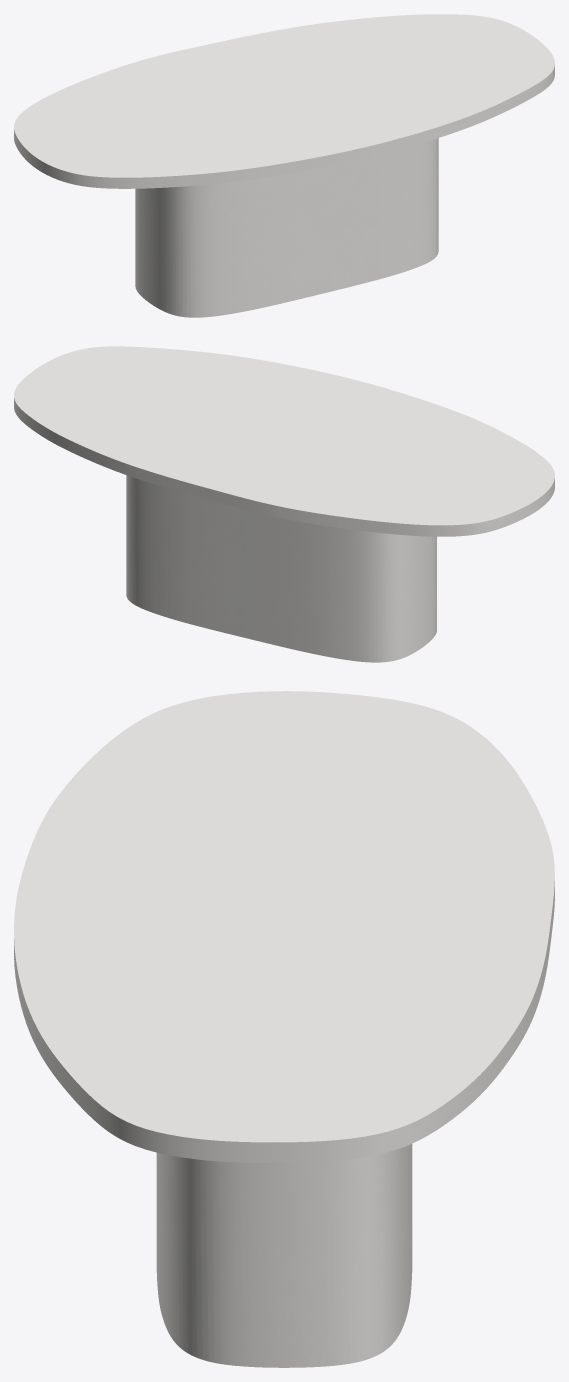
File: purewhite_danish_standard_fixed.glb
3 renders of one model, top to bottom at view 1: azimuth 30°, elevation 25°; view 2: azimuth 150°, elevation 25°; view 3: azimuth 270°, elevation 25°, orthographic. The views are drawn at different scales.
Visible parts, largest first — view 1: standard_danish, fixed; view 2: standard_danish, fixed; view 3: standard_danish, fixed.
Part boxes in pixels (x1,y1,x2,y2): standard_danish: (14, 14, 554, 188); fixed: (135, 138, 438, 317); standard_danish: (14, 346, 554, 536); fixed: (126, 475, 436, 662); standard_danish: (14, 691, 554, 1162); fixed: (156, 1144, 412, 1367).
Bounding box in the file's own units: 7.5 × 2.5 × 3.8.
1 material, 1 textured.
